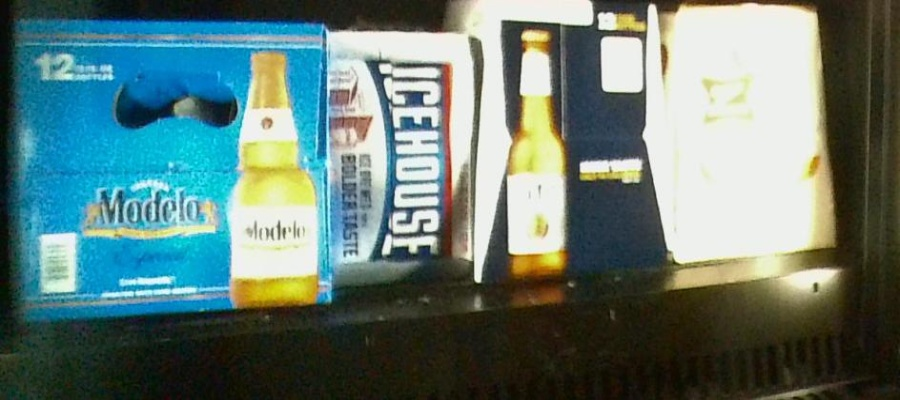bottle: (10, 18, 331, 307), (477, 1, 665, 276), (665, 3, 837, 255), (328, 26, 474, 288)
